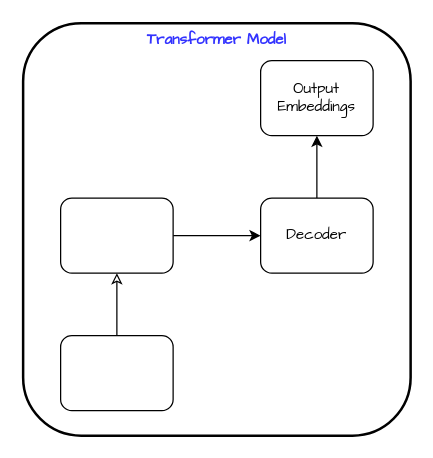
Some shapes in this 433 by 458 pixel diagram are drawn without their labels. The shapes that lost their labels are listed below. From the top down, each one's box as (x1, y1, x2, y2) in pixels, then its label:
(59, 197, 173, 273): Encoder
(59, 334, 173, 411): Input
